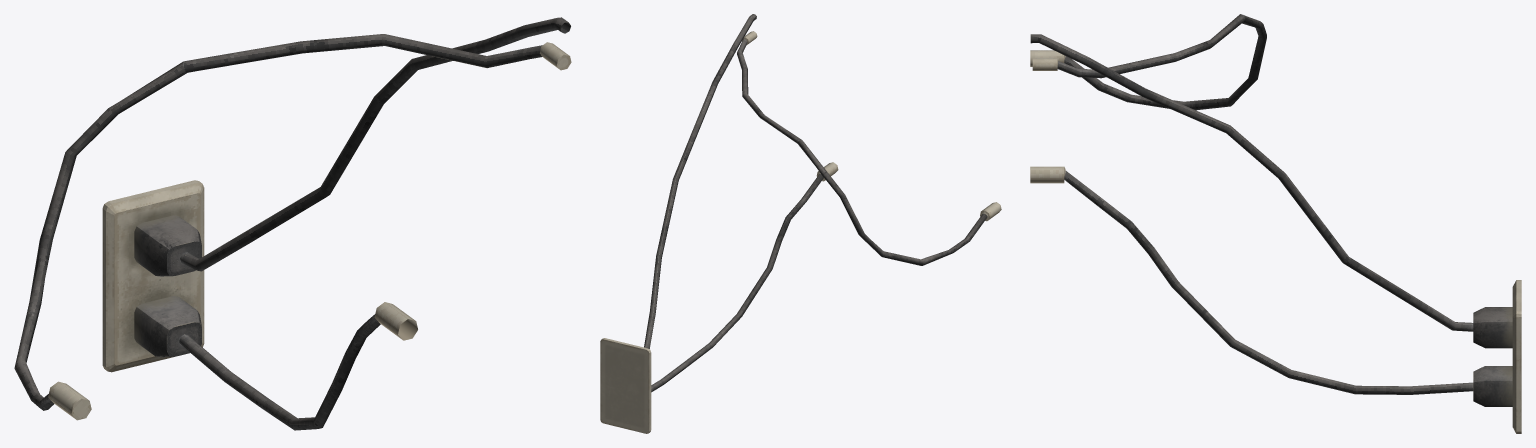
Rendered from Wire_Switchboard.glb.
3 renders of one model, left to right at view 1: azimuth 30°, elevation 25°; view 2: azimuth 150°, elevation 25°; view 3: azimuth 270°, elevation 25°, orthographic. The views are drawn at different scales.
Parts seen in each view (by area): view 1: Wire_Switchboard; view 2: Wire_Switchboard; view 3: Wire_Switchboard.
Boxes of the visible parts, x1,y1,x2,y2 form: Wire_Switchboard: (14,17,571,430); Wire_Switchboard: (600,14,1001,433); Wire_Switchboard: (1030,14,1521,433).
Size of the model in its own units: 0.6506 by 0.699 by 0.7567.
1 material, 1 textured.
